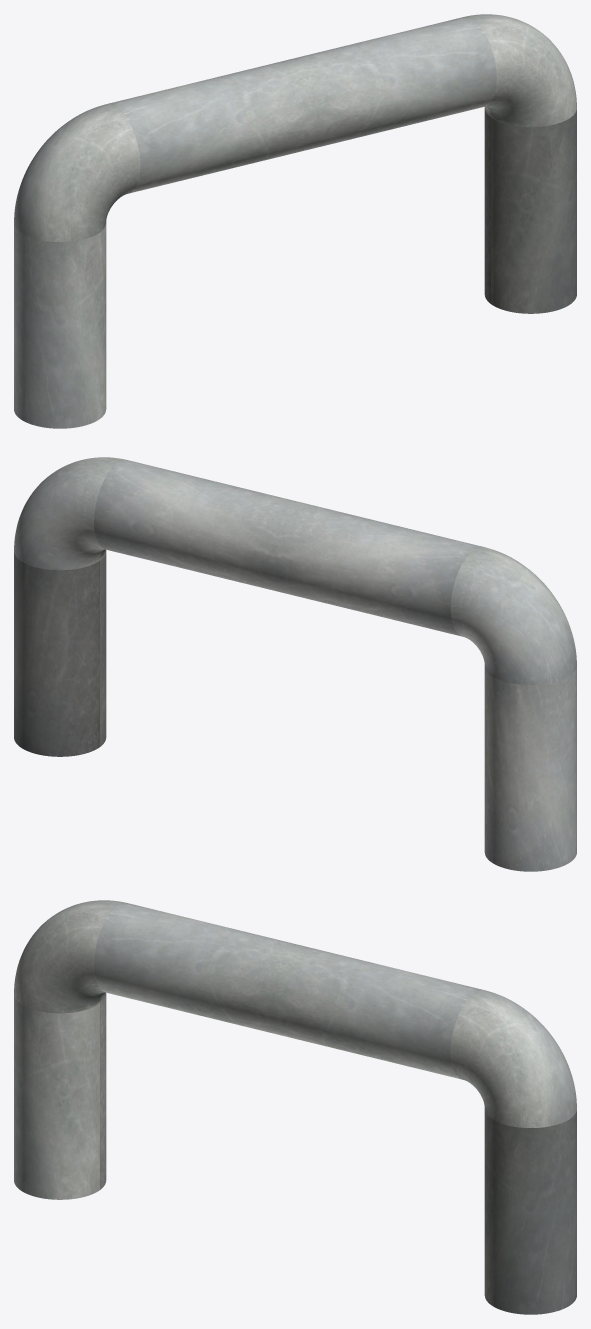
File: pipe24.dae
3 views of the same model, one above another, from view 1: azimuth 30°, elevation 25°; view 2: azimuth 150°, elevation 25°; view 3: azimuth 330°, elevation 25° (orthographic).
Parts seen in each view (by area): view 1: b3fd9da0-a4ed-4cdc-86ec-6344a40530bf, aa5815df-7c7c-451b-afbd-8bd16147938b, a075e8b3-8345-41c0-b85b-470875cb70b7, a3d967fd-532c-4837-85a5-f824a6a39137, a89313bf-ccf0-480d-b5b2-52970c45e9df, a33d89c9-c747-4de0-b705-0f5b93cd7e18; view 2: b3fd9da0-a4ed-4cdc-86ec-6344a40530bf, aa5815df-7c7c-451b-afbd-8bd16147938b, a075e8b3-8345-41c0-b85b-470875cb70b7, a3d967fd-532c-4837-85a5-f824a6a39137, a89313bf-ccf0-480d-b5b2-52970c45e9df, a33d89c9-c747-4de0-b705-0f5b93cd7e18; view 3: aa5815df-7c7c-451b-afbd-8bd16147938b, b3fd9da0-a4ed-4cdc-86ec-6344a40530bf, a075e8b3-8345-41c0-b85b-470875cb70b7, a3d967fd-532c-4837-85a5-f824a6a39137, a33d89c9-c747-4de0-b705-0f5b93cd7e18, a89313bf-ccf0-480d-b5b2-52970c45e9df.
Part boxes in pixels (x1,y1,x2,y2): b3fd9da0-a4ed-4cdc-86ec-6344a40530bf: (484, 109, 576, 313); aa5815df-7c7c-451b-afbd-8bd16147938b: (14, 224, 106, 428); a075e8b3-8345-41c0-b85b-470875cb70b7: (287, 17, 496, 149); a3d967fd-532c-4837-85a5-f824a6a39137: (108, 60, 318, 193); a89313bf-ccf0-480d-b5b2-52970c45e9df: (14, 104, 140, 241); a33d89c9-c747-4de0-b705-0f5b93cd7e18: (464, 14, 576, 127); b3fd9da0-a4ed-4cdc-86ec-6344a40530bf: (14, 552, 106, 756); aa5815df-7c7c-451b-afbd-8bd16147938b: (484, 667, 576, 871); a075e8b3-8345-41c0-b85b-470875cb70b7: (94, 460, 303, 592); a3d967fd-532c-4837-85a5-f824a6a39137: (272, 503, 482, 636); a89313bf-ccf0-480d-b5b2-52970c45e9df: (450, 547, 576, 684); a33d89c9-c747-4de0-b705-0f5b93cd7e18: (14, 457, 126, 570); aa5815df-7c7c-451b-afbd-8bd16147938b: (14, 995, 106, 1199); b3fd9da0-a4ed-4cdc-86ec-6344a40530bf: (484, 1110, 576, 1314); a075e8b3-8345-41c0-b85b-470875cb70b7: (272, 946, 482, 1079); a3d967fd-532c-4837-85a5-f824a6a39137: (94, 903, 303, 1035); a33d89c9-c747-4de0-b705-0f5b93cd7e18: (450, 990, 576, 1127); a89313bf-ccf0-480d-b5b2-52970c45e9df: (14, 900, 126, 1013).
Bounding box in the file's own units: 4.41 × 0.6396 × 2.2.
6 materials, 6 textured.
